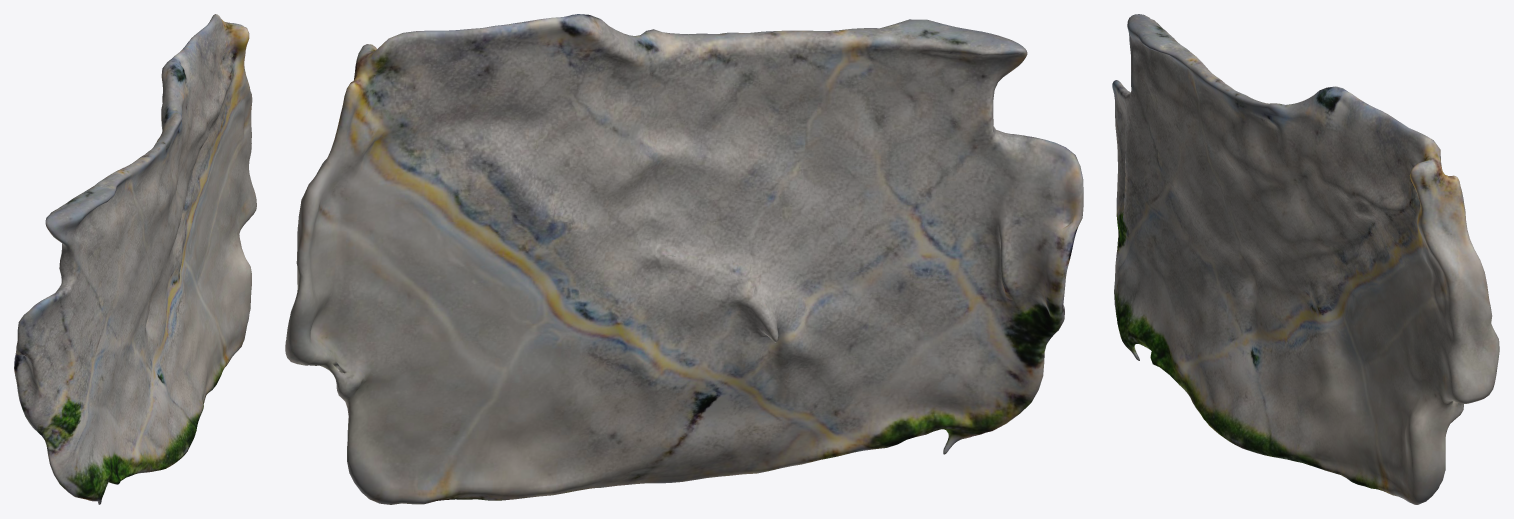
The model's file is MapPiece.fbx.
The picture shows the model from 3 angles, left to right: view 1: azimuth 30°, elevation 25°; view 2: azimuth 150°, elevation 25°; view 3: azimuth 270°, elevation 25°; orthographic projection. The views are drawn at different scales.
Visible parts, largest first — view 1: mesh; view 2: mesh; view 3: mesh.
Boxes of the visible parts, x1,y1,x2,y2 form: mesh: [14, 14, 256, 504]; mesh: [285, 14, 1083, 504]; mesh: [1112, 14, 1499, 504].
Bounding box in the file's own units: 99.74 × 84.39 × 78.62.
